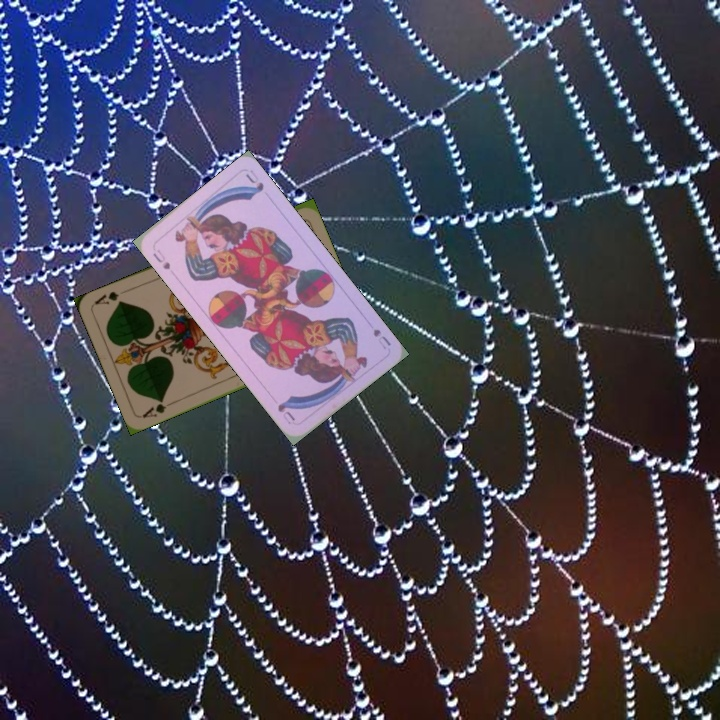GA: (138, 395, 177, 420)
SU: (369, 325, 394, 352), (149, 245, 173, 272)
